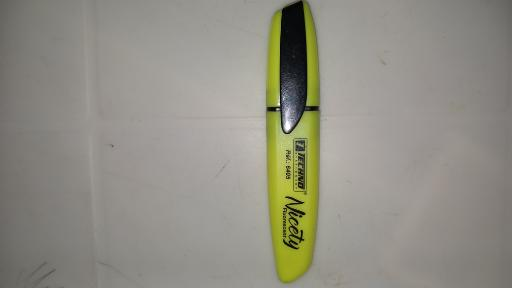Highlighter: (266, 0, 322, 282)
